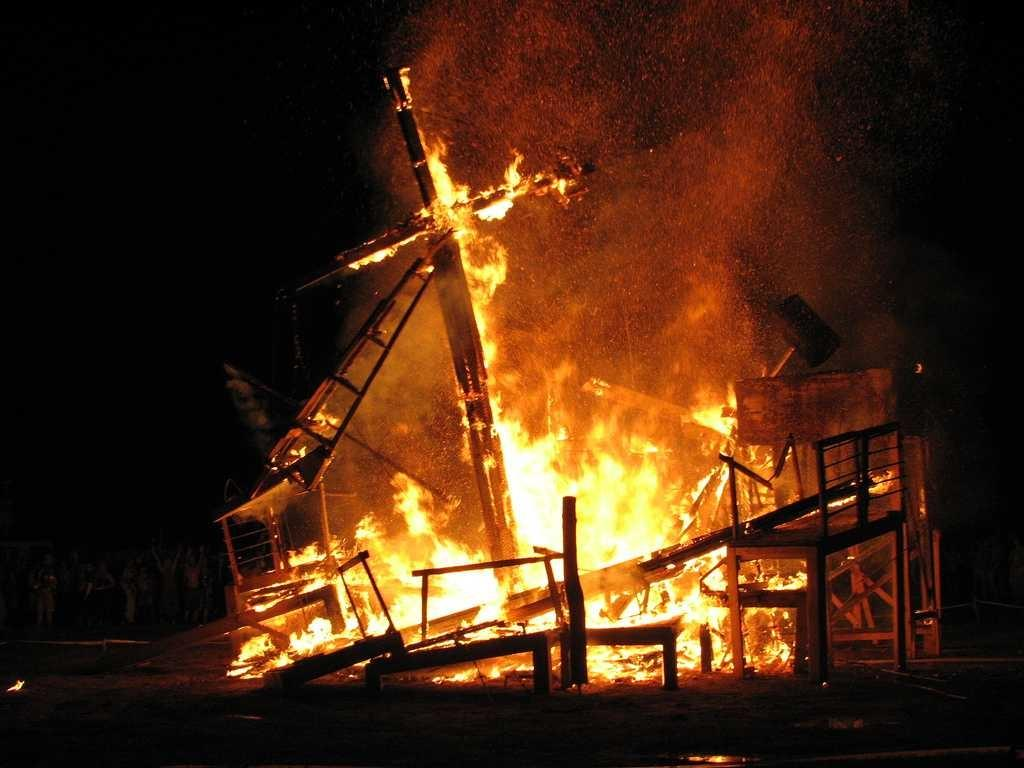fire: (590, 486, 658, 552), (516, 446, 552, 528), (424, 570, 492, 610)
